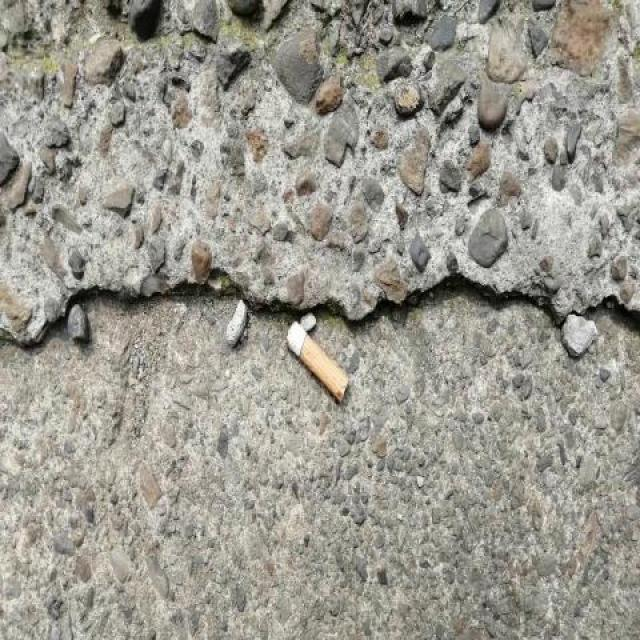non-organic waste: (281, 318, 351, 406)
